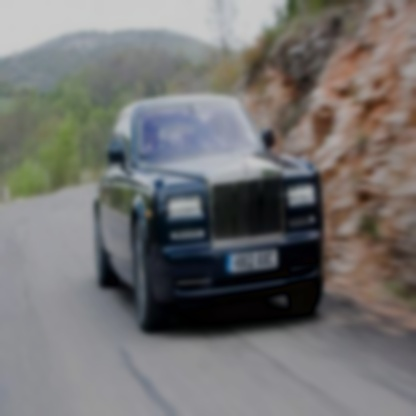Vehicle: (95, 96, 325, 334)
